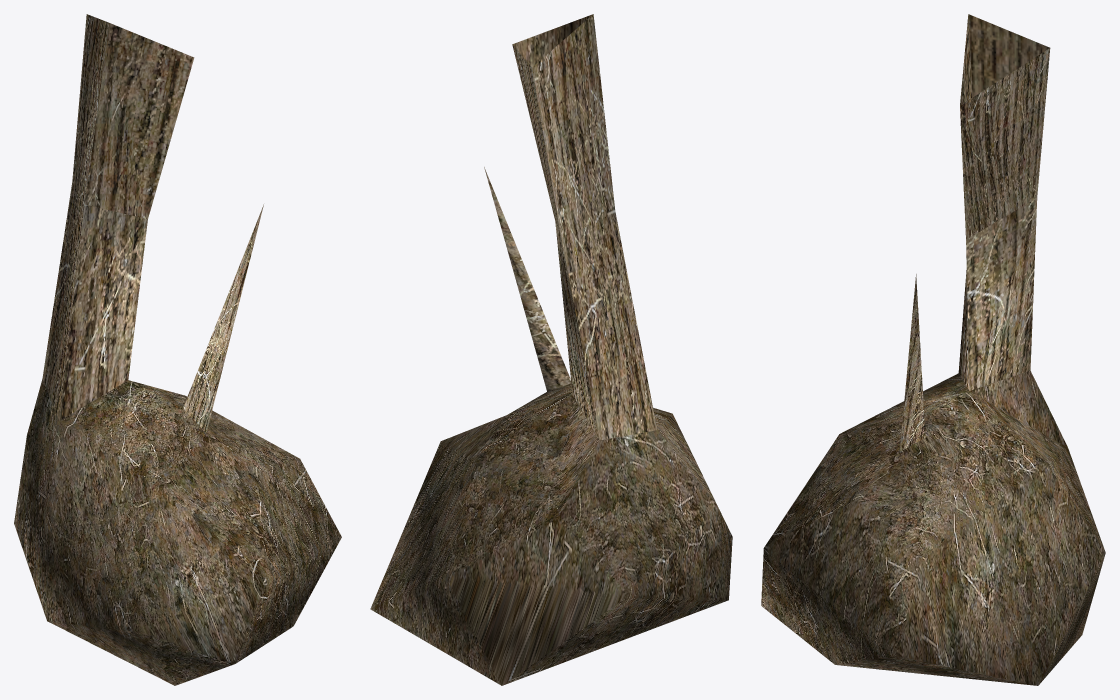
Rendered from poi_all_lair_warren_large_l3.fbx.
The picture shows the model from 3 angles, left to right: view 1: azimuth 30°, elevation 25°; view 2: azimuth 150°, elevation 25°; view 3: azimuth 270°, elevation 25°; orthographic projection. The views are drawn at different scales.
Parts seen in each view (by area): view 1: mesh_node; view 2: mesh_node; view 3: mesh_node.
Boxes of the visible parts, x1,y1,x2,y2 form: mesh_node: (14, 14, 341, 685); mesh_node: (370, 14, 732, 685); mesh_node: (761, 14, 1105, 685).
Size of the model in its own units: 2.74 by 5.63 by 2.76.
Materials: 3 (3 with a texture image).
